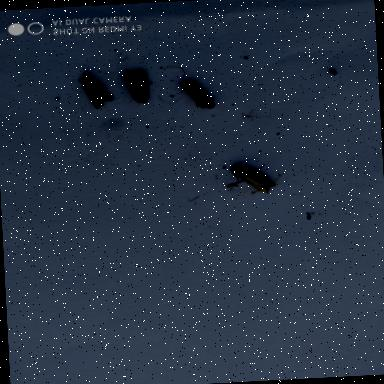pbw: (221, 158, 280, 198), (76, 70, 116, 112), (176, 74, 218, 112), (120, 63, 155, 106)
